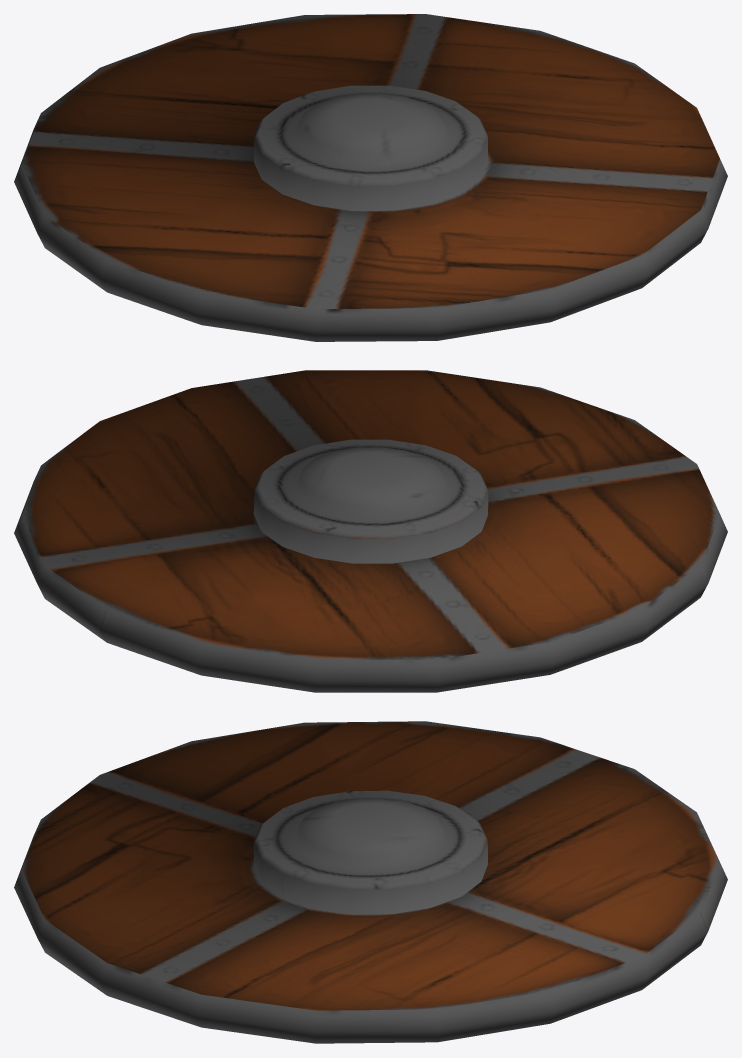
Rendered from schild.FBX.
3 views of the same model, one above another, from view 1: azimuth 30°, elevation 25°; view 2: azimuth 150°, elevation 25°; view 3: azimuth 270°, elevation 25° (orthographic).
Visible parts, largest first — view 1: Schild; view 2: Schild; view 3: Schild.
Part boxes in pixels (x1,y1,x2,y2): Schild: (14, 14, 727, 341); Schild: (14, 370, 727, 692); Schild: (14, 721, 727, 1043).
Bounding box in the file's own units: 44.72 × 45.28 × 5.71.
1 material, 1 textured.
